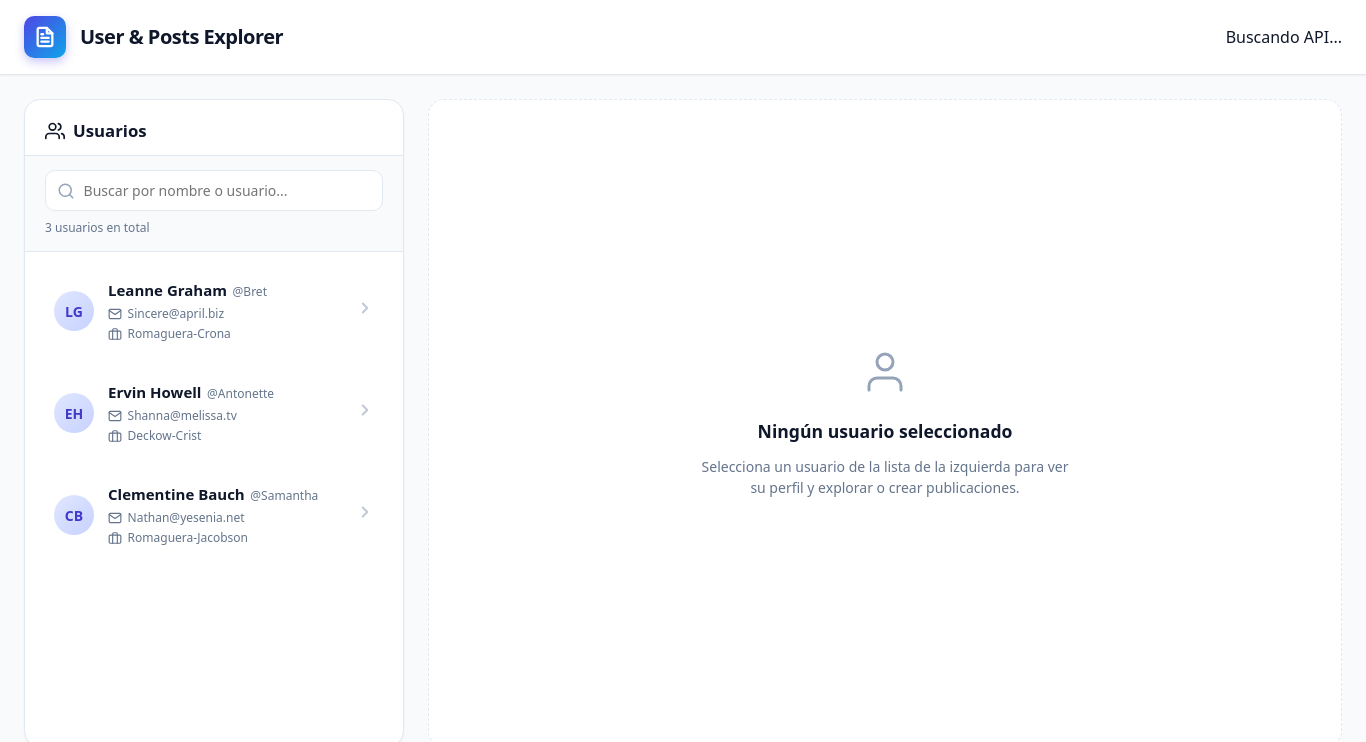
it: App Integration Flow › carga la lista de usuarios, permite seleccionar uno, ver sus posts y crear una publicación
Later steps or results of the test are not shown.
Expected: the heading "Leanne Graham" is shown, 108,279 -> 227,302
Expected: the heading "Ervin Howell" is shown, 108,381 -> 201,404
Click the button with aria-label "ver publicaciones de Leanne Graham" at (214, 311), box 37,264 -> 391,358
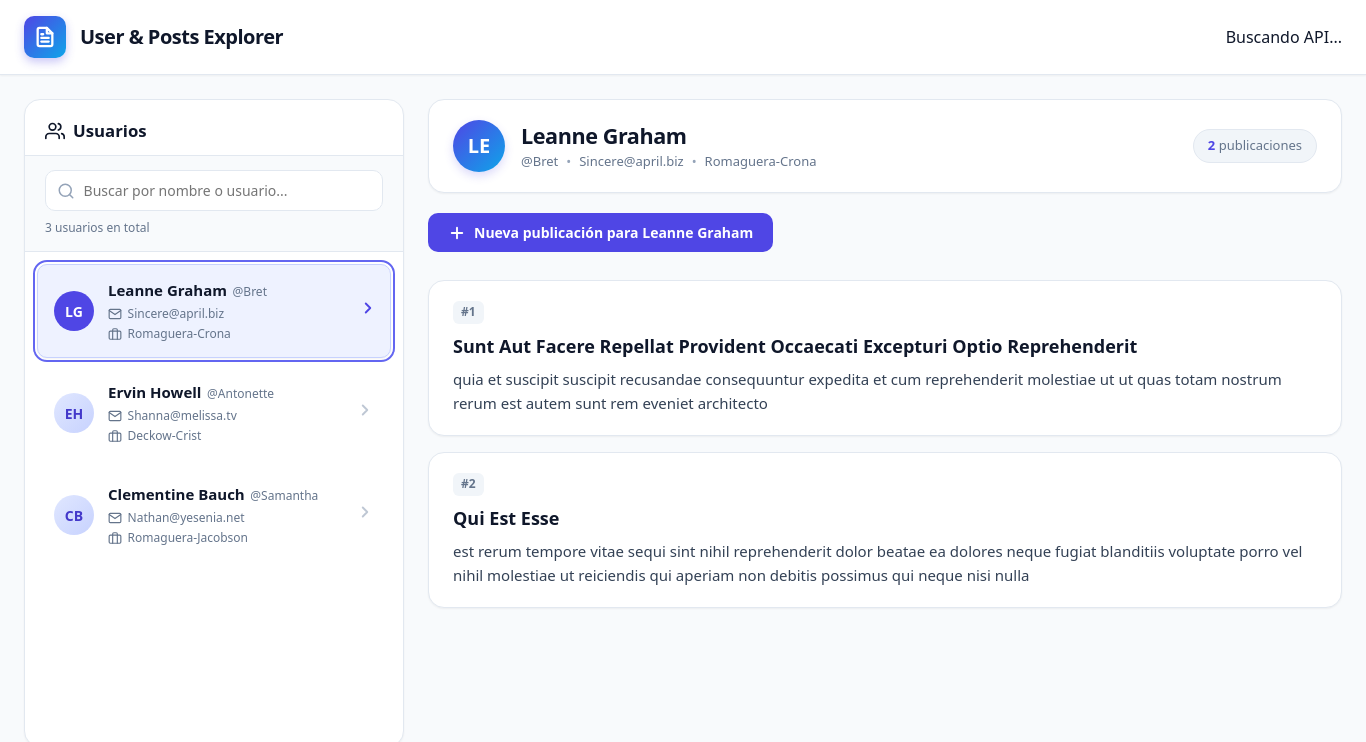
Result: the heading "sunt aut facere repellat provident occaecati excepturi optio reprehenderit" is shown at 453,334 -> 1137,358
Result: the heading "qui est esse" is shown at 453,506 -> 560,530
Click the button "Nueva publicación para Leanne Graham" at (601, 232), box 428,213 -> 773,252
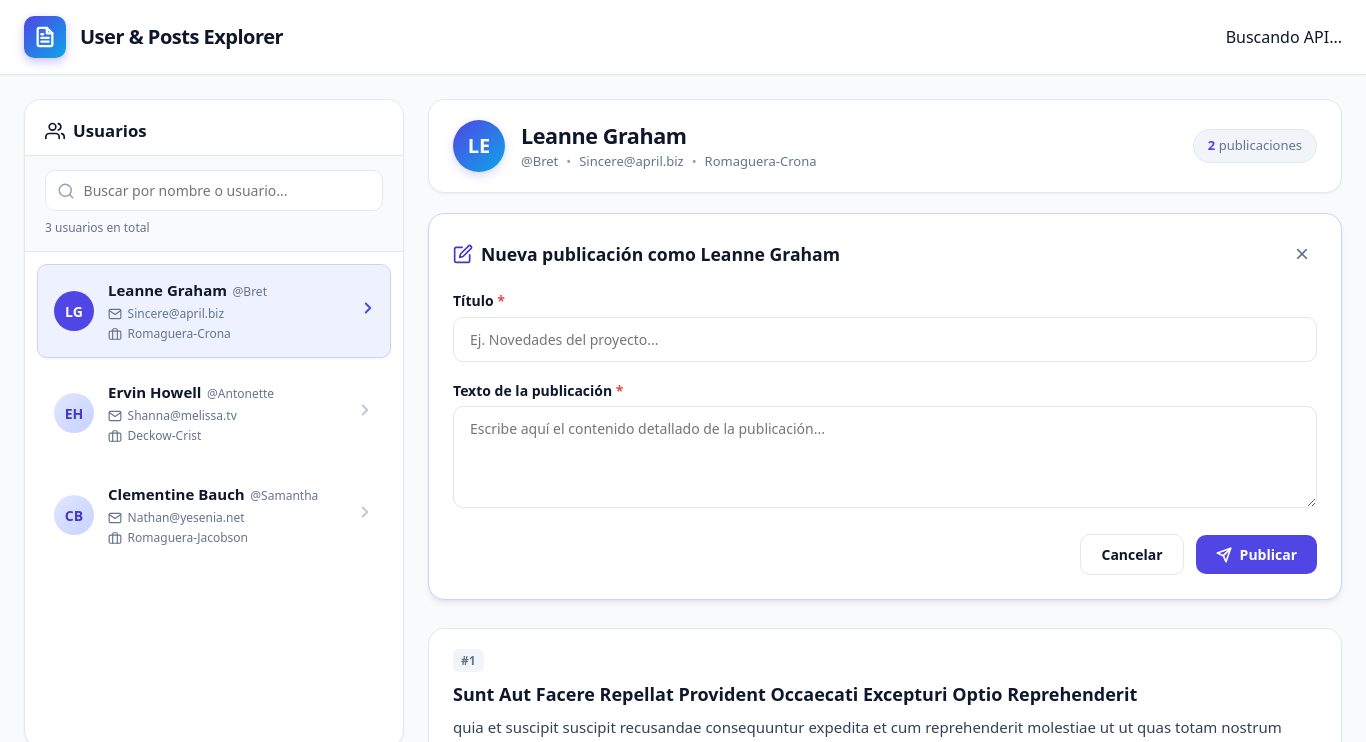
Type "Post creado por el tester" into the field labelled "Título *" at (885, 339), box 453,317 -> 1317,362
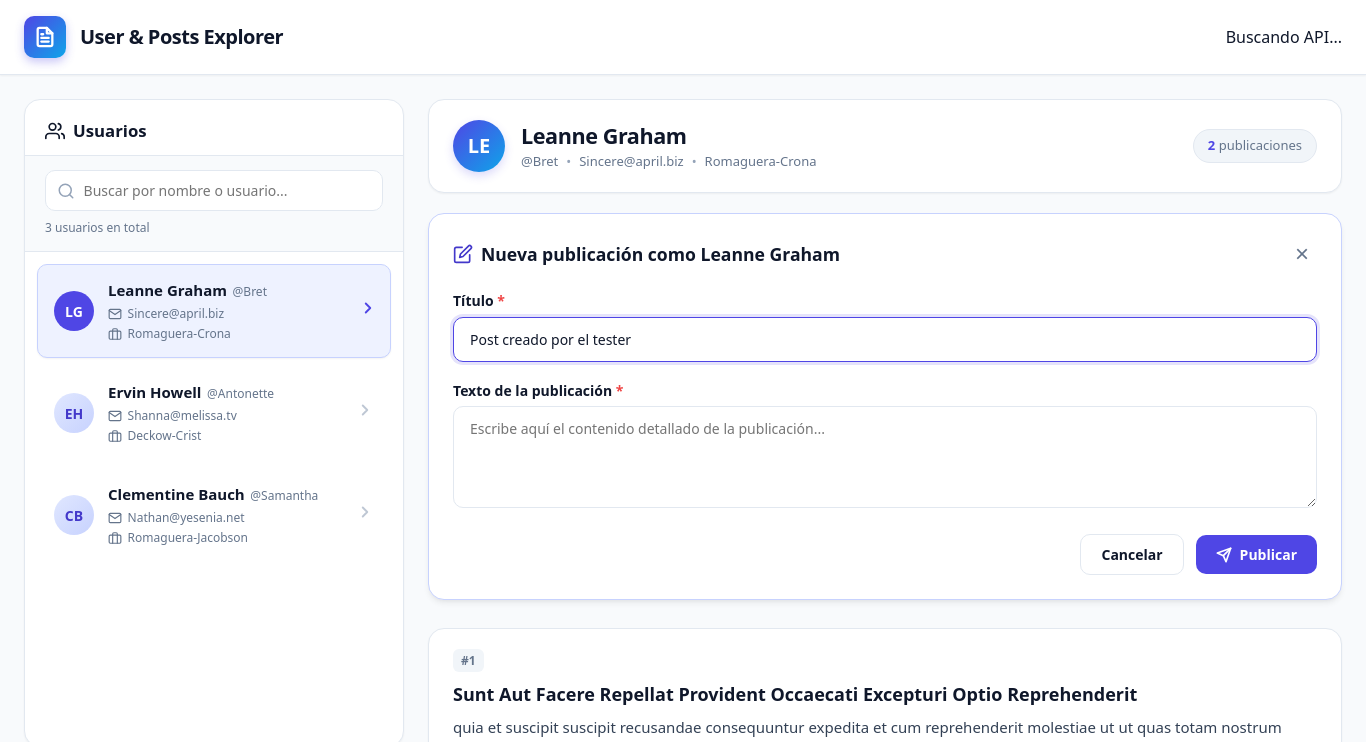
Type "Contenido de la nueva publicación agregada a la lista." into the text box labelled "Texto de la publicación *" at (885, 457), box 453,406 -> 1317,508
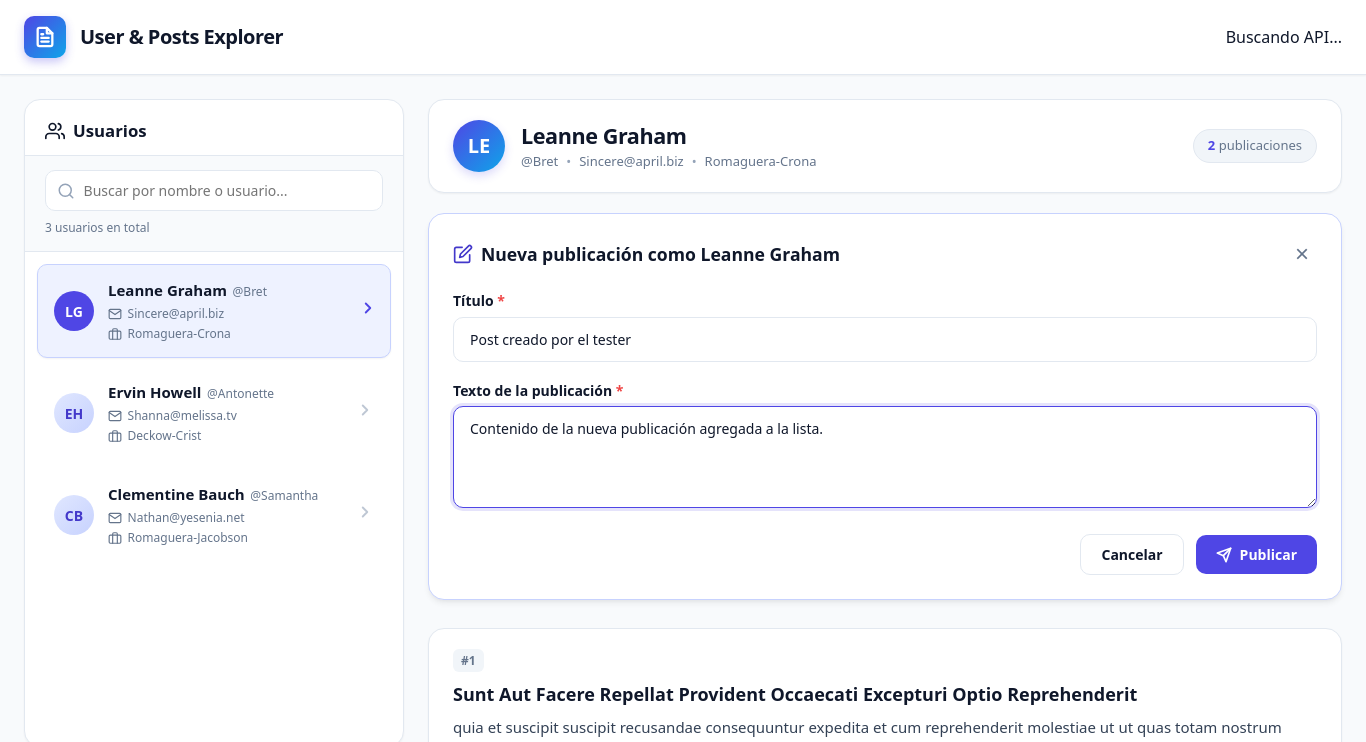
Click the button "Publicar" at (1256, 555), box 1196,535 -> 1317,574
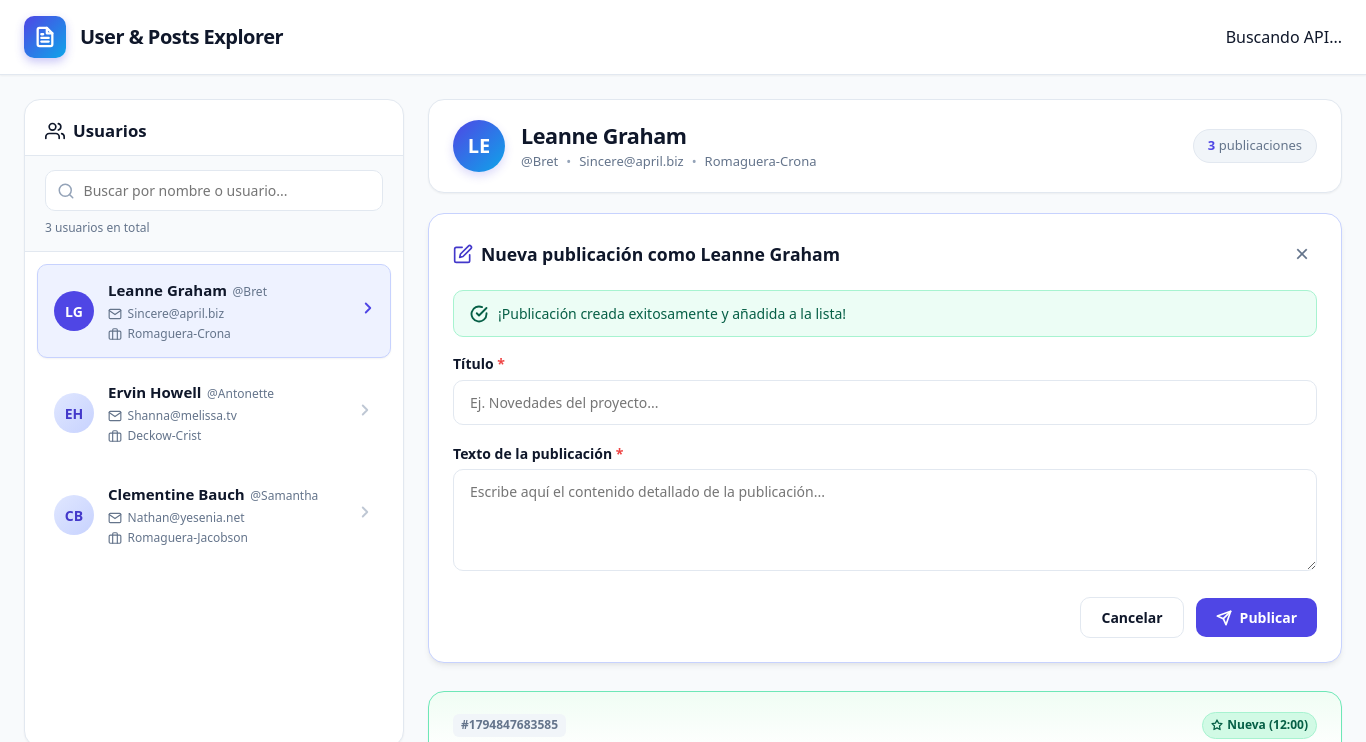
Result: the element titled "esta publicación fue creada durante tu sesión actual" is shown at 1202,712 -> 1317,739
